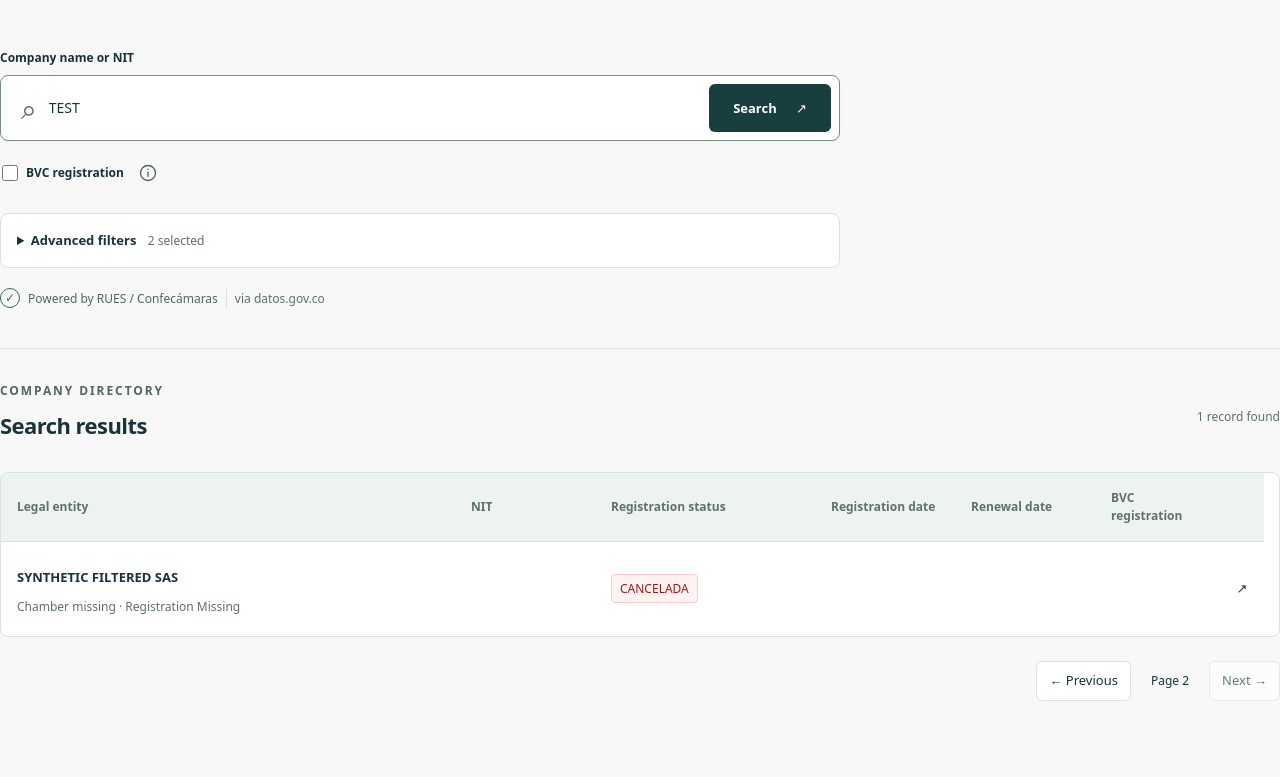
returning from a profile restores the filtered page without another company search
The width and height of the screenshot is (1280, 777).
What coordinates should you click on to do the following:
click the link "SYNTHETIC FILTERED SAS"
I would click on:
 (98, 577)
Its box is [17, 568, 178, 586].
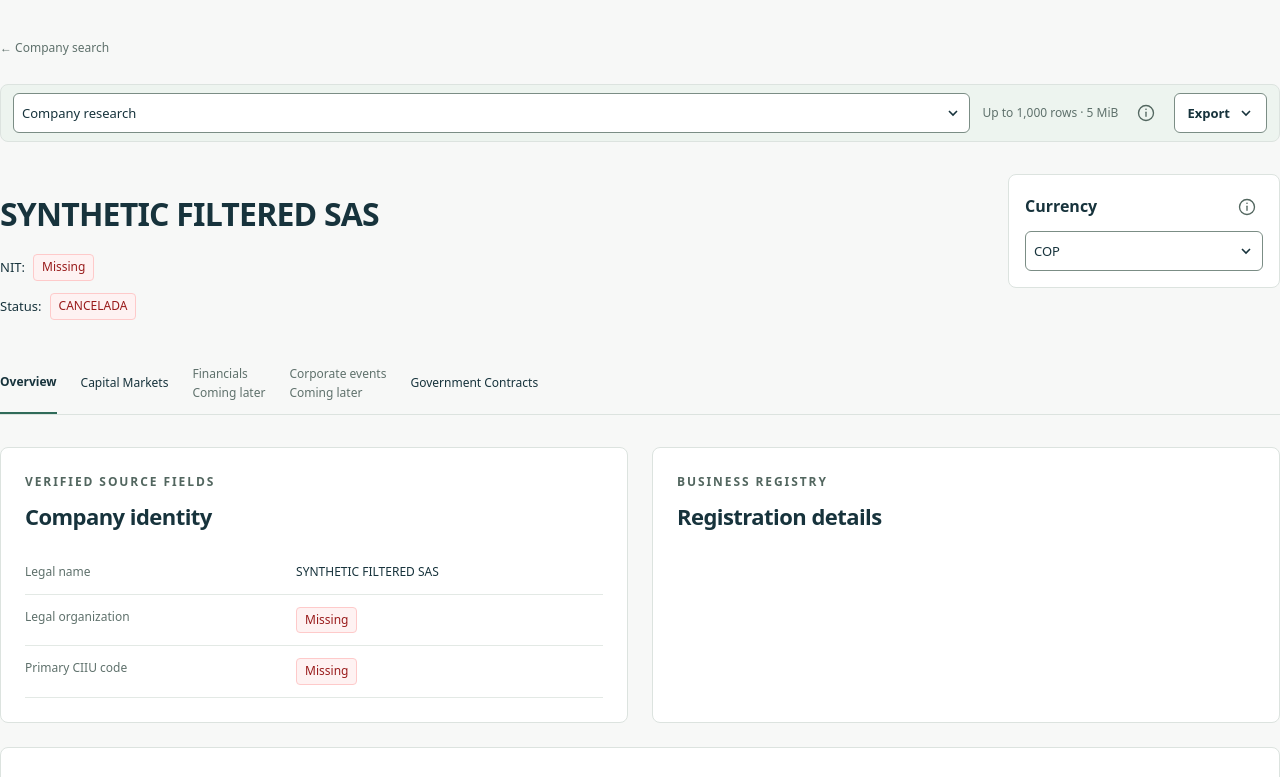
Result: the heading "SYNTHETIC FILTERED SAS" is shown at [0, 194, 379, 234]
What coordinates should you click on to do the following:
click the link "← Company search"
I would click on:
 (55, 48)
Its box is [0, 39, 109, 56].
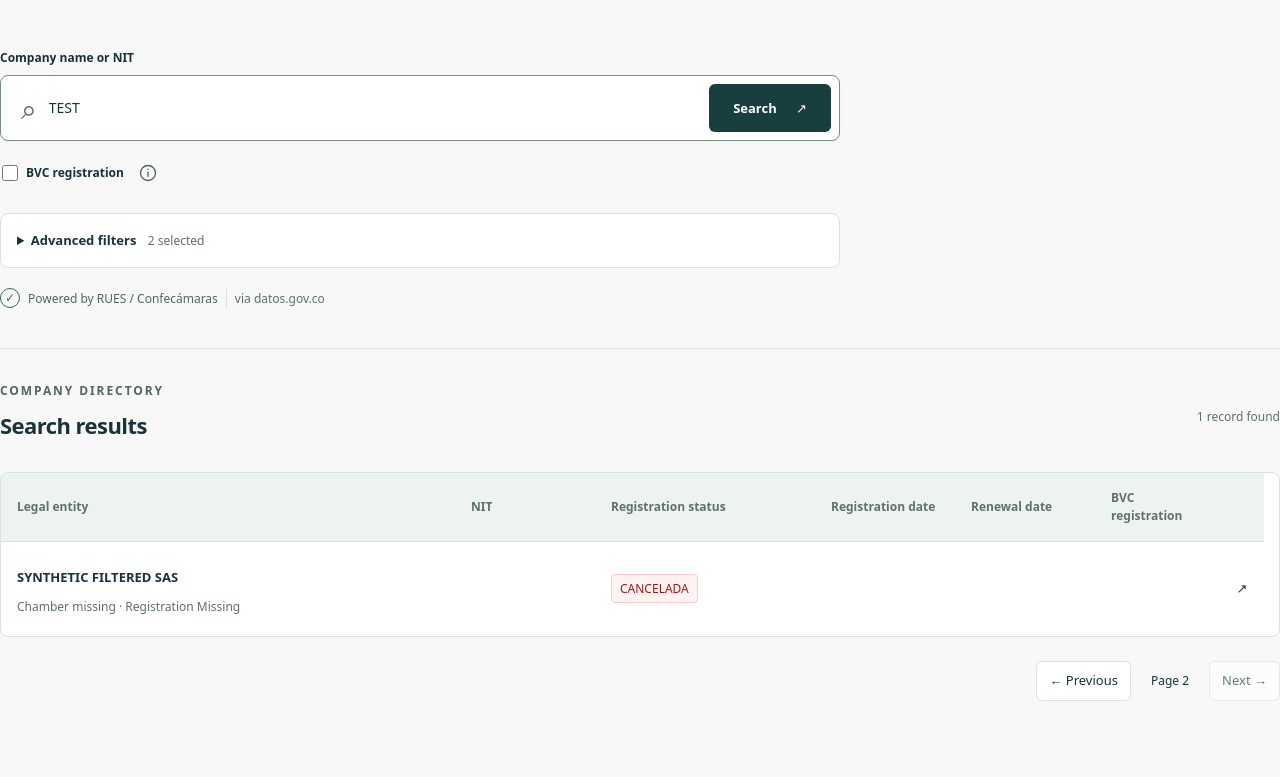
Expected: the link "SYNTHETIC FILTERED SAS" is shown, [17, 568, 178, 586]
Result: the text "1 record found" is shown at [1197, 407, 1279, 426]
Result: the text "Page 2" is shown at [1151, 671, 1189, 690]
